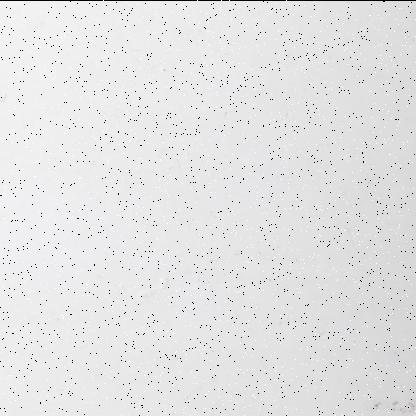Nocrack: (10, 13, 404, 411)
